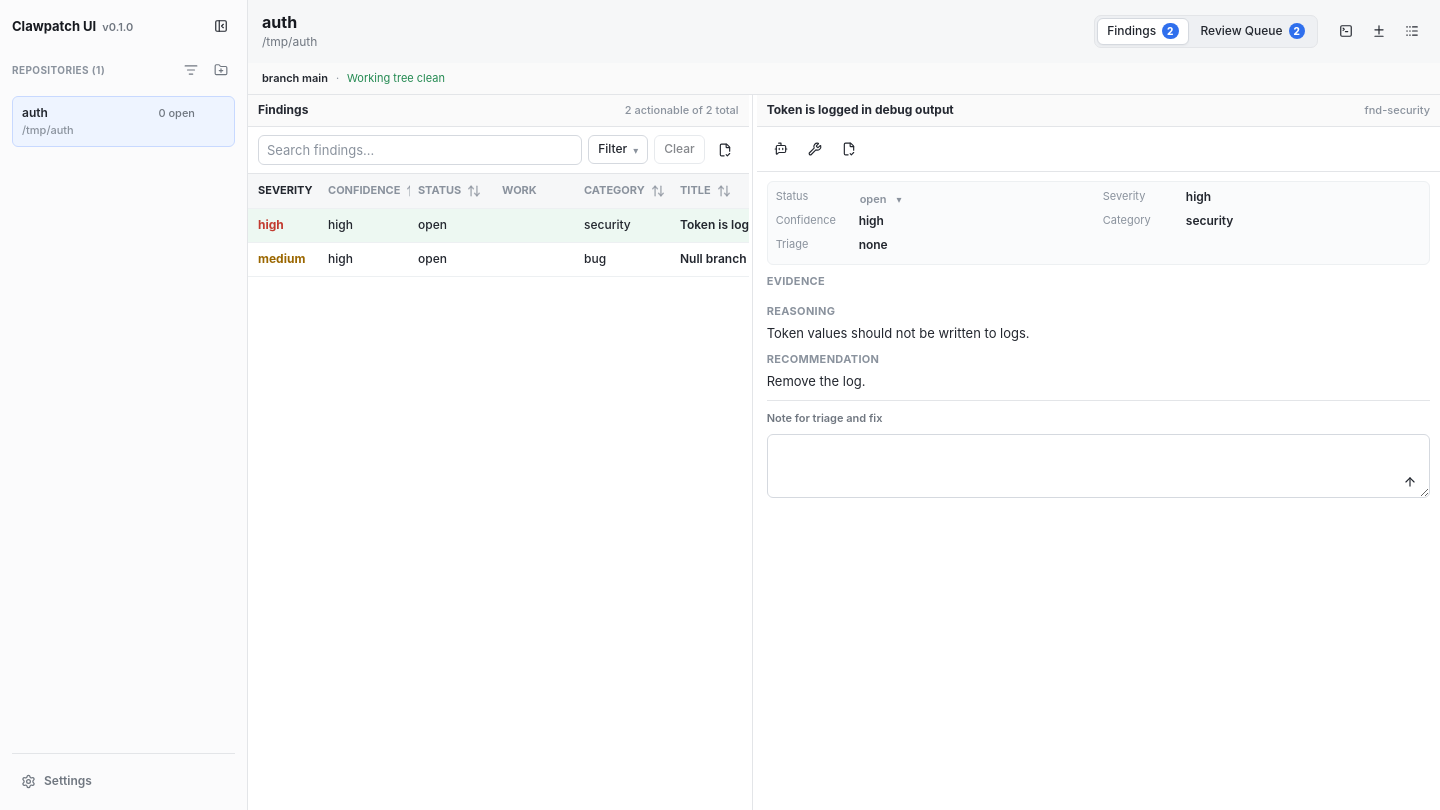
it: ClawpatchApp header actions › keeps the git status strip mounted while selected finding status loads
Expected: the text "branch main" is shown, [262,71,328,86]
What coordinates should you click on to do the following:
click the text "Null branch can throw"
I would click on:
 (746, 259)
Its box is [680,251,812,268].
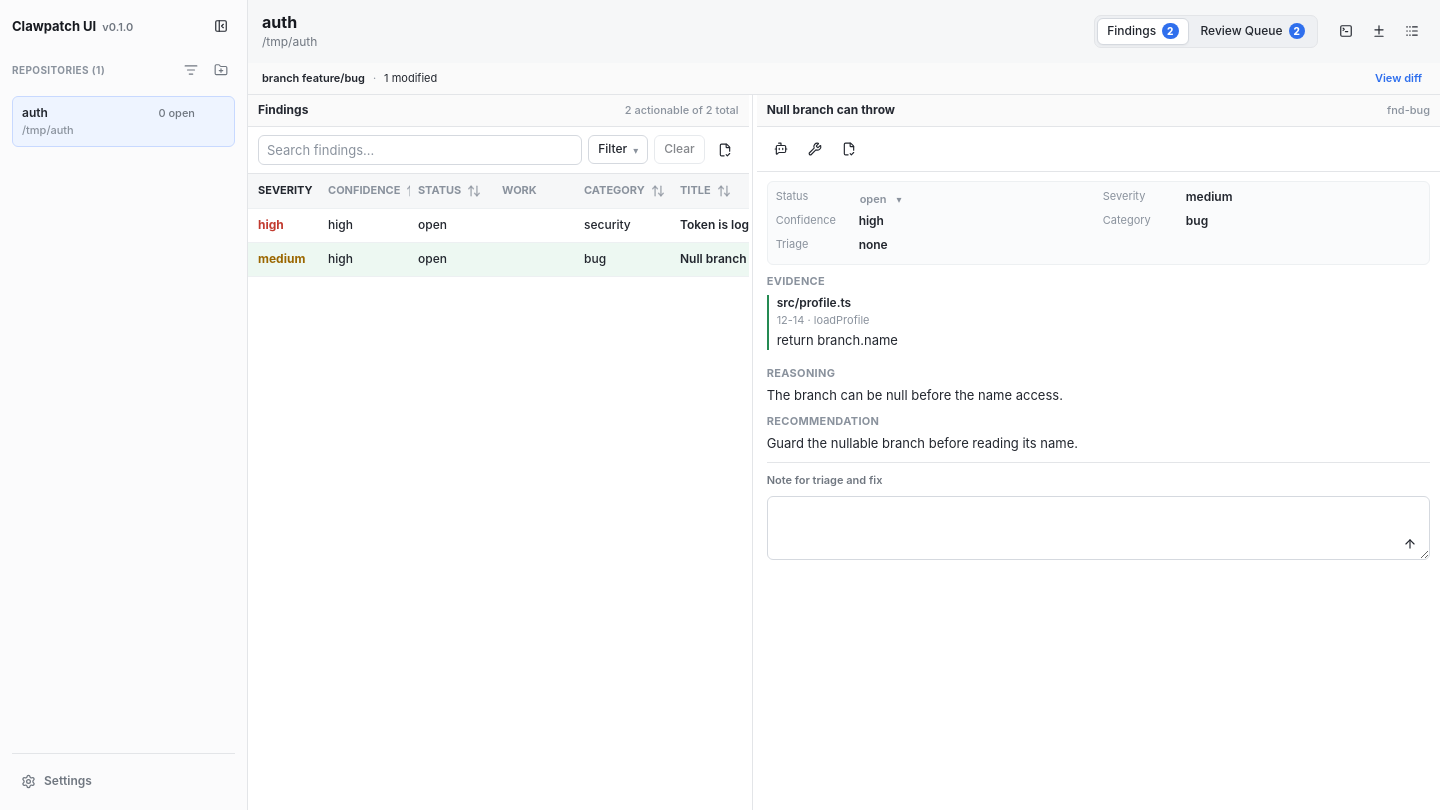
Now the text "branch feature/bug" is shown, box [262,71,365,86]
Now the text "1 modified" is shown, box [384,71,437,86]
